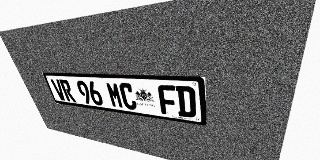6: (86, 81, 104, 106)
9: (75, 80, 93, 104)
C: (118, 83, 138, 110)
D: (175, 86, 196, 118)
F: (157, 85, 178, 116)
M: (105, 82, 124, 109)
R: (59, 79, 76, 102)
V: (50, 79, 67, 101)
